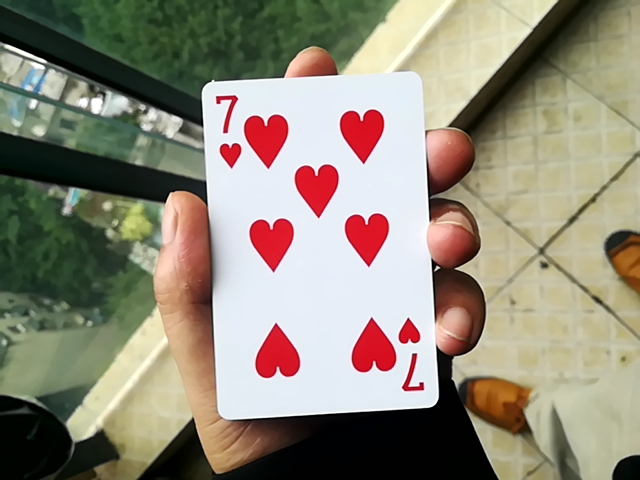hx 7: (192, 57, 432, 427)
